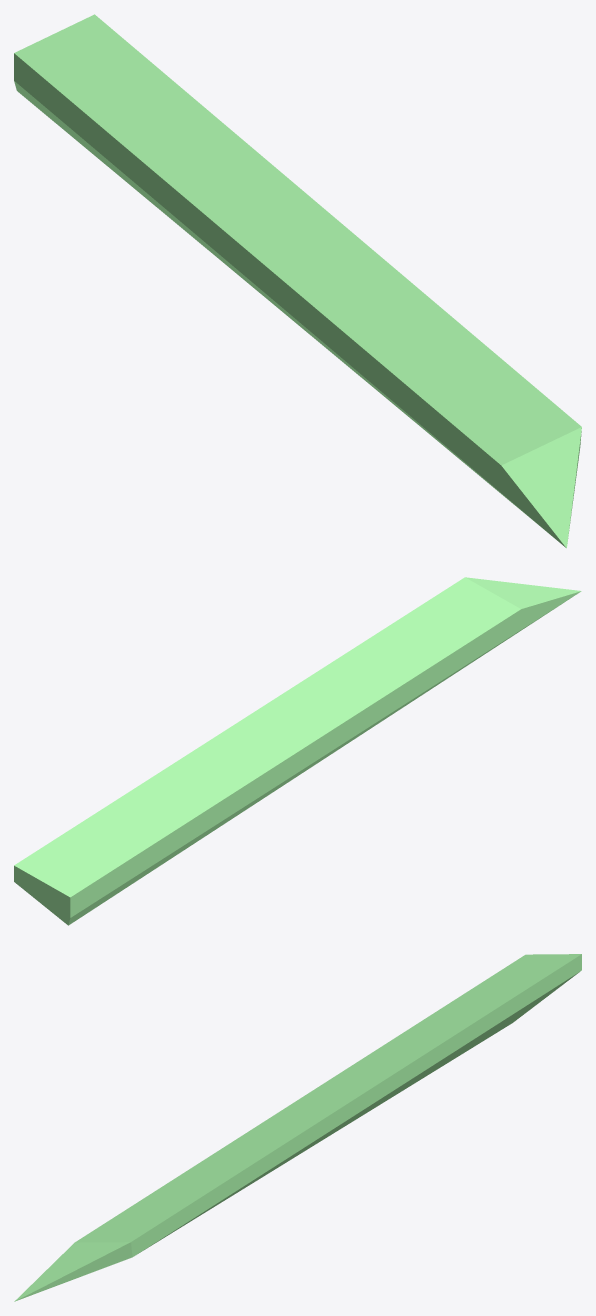
File: palle_scrotali_buone_L2_respondable_PSM1_coll_3.dae
3 views of the same model, one above another, from view 1: azimuth 30°, elevation 25°; view 2: azimuth 150°, elevation 25°; view 3: azimuth 330°, elevation 25° (orthographic). The views are drawn at different scales.
Parts seen in each view (by area): view 1: Node_000002334E243BC0; view 2: Node_000002334E243BC0; view 3: Node_000002334E243BC0.
Part boxes in pixels (x1,y1,x2,y2): Node_000002334E243BC0: (14, 14, 581, 548); Node_000002334E243BC0: (14, 577, 581, 925); Node_000002334E243BC0: (14, 954, 581, 1301).
Bounding box in the file's own units: 0.055 × 0.0261 × 0.4112.
